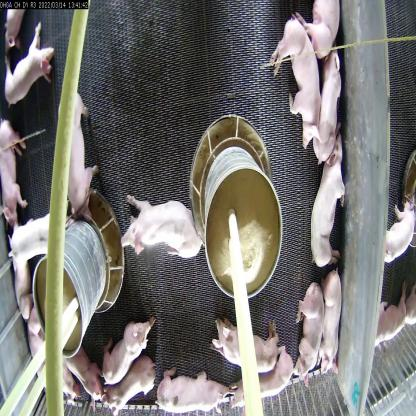Pig: (272, 1, 328, 153), (119, 192, 204, 273), (54, 86, 98, 220), (288, 265, 333, 381), (0, 22, 55, 116), (212, 304, 279, 378), (26, 301, 70, 408), (309, 27, 342, 169), (0, 115, 36, 243), (230, 348, 298, 414), (307, 157, 340, 281), (159, 365, 238, 415), (98, 314, 155, 382), (304, 0, 346, 75), (8, 212, 60, 268), (324, 264, 349, 376), (106, 360, 154, 415), (66, 345, 108, 399)
